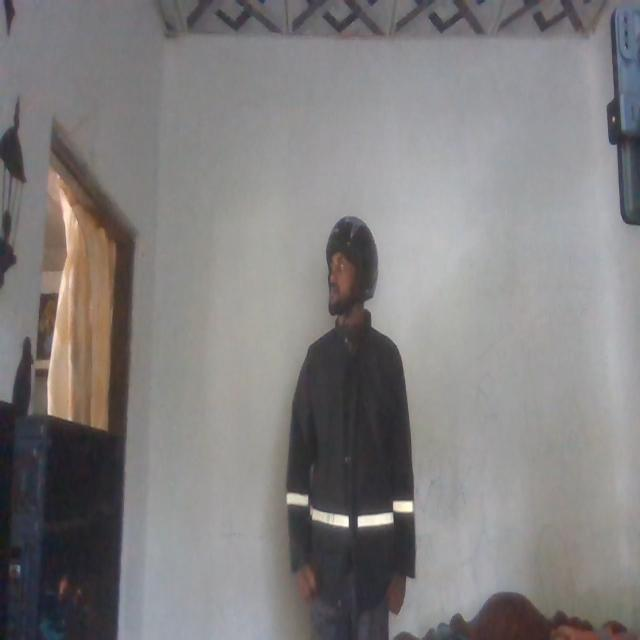Helmet_Wearer: (320, 212, 384, 334)
Jacket_Wearer: (295, 316, 414, 620)
Person: (278, 204, 417, 640)
